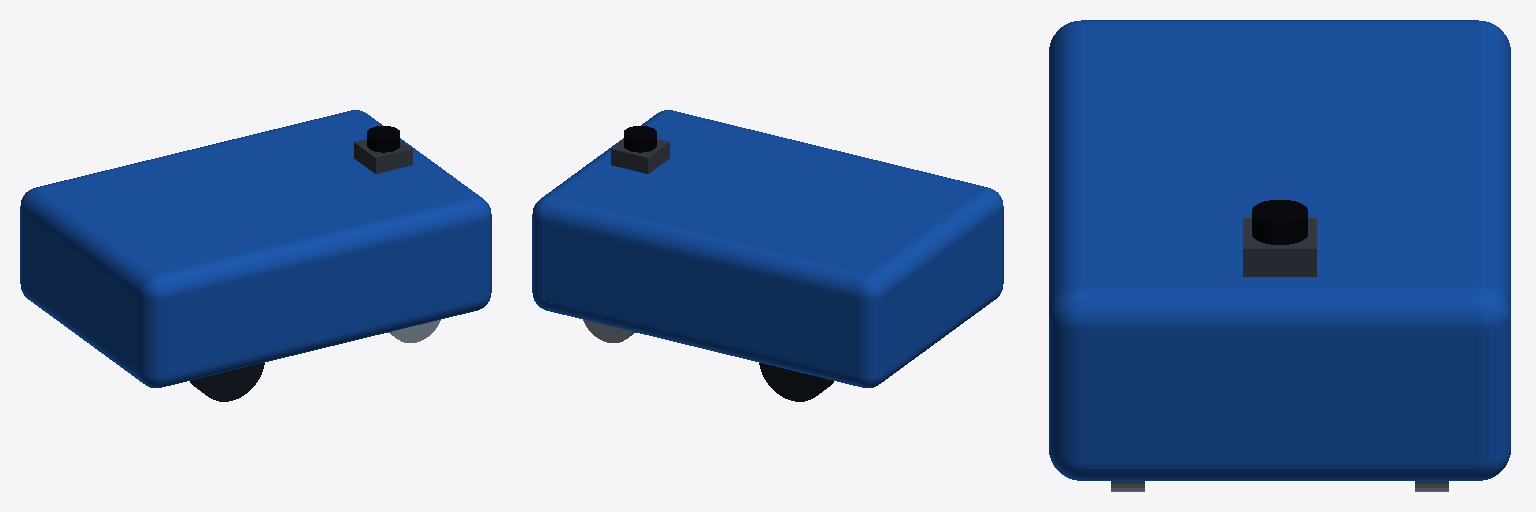
URDF robot description (fwr_chassis_preview):
<?xml version="1.0"?>
<!-- Overall envelope: 0.52 m long, 0.35 m wide, 0.20 m high. +X is front.
     Wheel sizes and mounting coordinates are illustrative, not measured CAD. -->
<robot name="fwr_chassis_preview">
  <material name="body_blue"><color rgba="0.12 0.35 0.68 0.72"/></material>
  <material name="wheel_dark"><color rgba="0.10 0.12 0.16 1"/></material>
  <material name="caster_gray"><color rgba="0.52 0.56 0.62 1"/></material>
  <material name="lidar_dark"><color rgba="0.04 0.05 0.07 1"/></material>
  <material name="lidar_base_gray"><color rgba="0.23 0.25 0.29 1"/></material>

  <link name="base_link">
    <visual>
      <origin xyz="0 0 0.12"/>
      <geometry><mesh filename="package://fwr_bringup/description/fwr_chassis_rounded.stl"/></geometry>
      <material name="body_blue"/>
    </visual>
    <collision>
      <origin xyz="0 0 0.12"/>
      <geometry><box size="0.52 0.35 0.16"/></geometry>
    </collision>
  </link>

  <!-- RPLIDAR C1 simplified visual: 55.6 x 55.6 x 41.3 mm per SLAMTEC drawing.
       Base position is illustrative; +X is front and the scan frame is chassis-fixed. -->
  <link name="laser_front">
    <visual>
      <origin xyz="0 0 -0.01825"/>
      <geometry><box size="0.0556 0.0556 0.0231"/></geometry>
      <material name="lidar_base_gray"/>
    </visual>
    <visual>
      <origin xyz="0 0 0.0024"/>
      <geometry><cylinder radius="0.0215" length="0.0182"/></geometry>
      <material name="lidar_dark"/>
    </visual>
    <collision>
      <origin xyz="0 0 -0.00915"/>
      <geometry><box size="0.0556 0.0556 0.0413"/></geometry>
    </collision>
    <inertial>
      <origin xyz="0 0 -0.00915"/>
      <mass value="0.11"/>
      <inertia ixx="0.0000439" ixy="0" ixz="0" iyy="0.0000439" iyz="0" izz="0.0000567"/>
    </inertial>
  </link>
  <joint name="laser_front_joint" type="fixed">
    <parent link="base_link"/><child link="laser_front"/>
    <origin xyz="0.19 0 0.2298" rpy="0 0 0"/>
  </joint>

  <link name="left_drive_wheel">
    <visual><origin rpy="1.57079632679 0 0"/><geometry><cylinder radius="0.05" length="0.035"/></geometry><material name="wheel_dark"/></visual>
  </link>
  <joint name="left_drive_wheel_preview_joint" type="continuous">
    <parent link="base_link"/><child link="left_drive_wheel"/>
    <origin xyz="-0.13 0.145 0.05"/>
    <axis xyz="0 1 0"/>
  </joint>

  <link name="right_drive_wheel">
    <visual><origin rpy="1.57079632679 0 0"/><geometry><cylinder radius="0.05" length="0.035"/></geometry><material name="wheel_dark"/></visual>
  </link>
  <joint name="right_drive_wheel_preview_joint" type="continuous">
    <parent link="base_link"/><child link="right_drive_wheel"/>
    <origin xyz="-0.13 -0.145 0.05"/>
    <axis xyz="0 1 0"/>
  </joint>

  <link name="front_left_caster_swivel">
    <visual><origin xyz="0 0 -0.015"/><geometry><cylinder radius="0.012" length="0.05"/></geometry><material name="caster_gray"/></visual>
  </link>
  <joint name="front_left_caster_steer_joint" type="continuous">
    <parent link="base_link"/><child link="front_left_caster_swivel"/>
    <origin xyz="0.19 0.115 0.09"/>
    <axis xyz="0 0 1"/>
  </joint>
  <link name="front_left_caster_wheel">
    <visual><origin rpy="1.57079632679 0 0"/><geometry><cylinder radius="0.04" length="0.025"/></geometry><material name="caster_gray"/></visual>
  </link>
  <joint name="front_left_caster_roll_joint" type="continuous">
    <parent link="front_left_caster_swivel"/><child link="front_left_caster_wheel"/>
    <origin xyz="-0.025 0 -0.05"/>
    <axis xyz="0 1 0"/>
  </joint>

  <link name="front_right_caster_swivel">
    <visual><origin xyz="0 0 -0.015"/><geometry><cylinder radius="0.012" length="0.05"/></geometry><material name="caster_gray"/></visual>
  </link>
  <joint name="front_right_caster_steer_joint" type="continuous">
    <parent link="base_link"/><child link="front_right_caster_swivel"/>
    <origin xyz="0.19 -0.115 0.09"/>
    <axis xyz="0 0 1"/>
  </joint>
  <link name="front_right_caster_wheel">
    <visual><origin rpy="1.57079632679 0 0"/><geometry><cylinder radius="0.04" length="0.025"/></geometry><material name="caster_gray"/></visual>
  </link>
  <joint name="front_right_caster_roll_joint" type="continuous">
    <parent link="front_right_caster_swivel"/><child link="front_right_caster_wheel"/>
    <origin xyz="-0.025 0 -0.05"/>
    <axis xyz="0 1 0"/>
  </joint>
</robot>

--- What the picture shows (computed from the rendered views, not written in the file) ---
3 views of the same robot in one strip: view 1: azimuth 30°, elevation 25°; view 2: azimuth 150°, elevation 25°; view 3: azimuth 270°, elevation 25° (orthographic).
Robot: fwr_chassis_preview — 8 links, 7 joints (6 continuous, 1 fixed); root link base_link; default pose: every joint at zero.
Links seen in each view (by area): view 1: base_link, laser_front, right_drive_wheel, front_right_caster_wheel; view 2: base_link, laser_front, left_drive_wheel, front_left_caster_wheel; view 3: base_link, laser_front.
Link boxes in pixels (x1,y1,x2,y2): base_link: [20, 110, 491, 387]; laser_front: [354, 126, 412, 173]; right_drive_wheel: [190, 363, 264, 401]; front_right_caster_wheel: [388, 320, 440, 342]; base_link: [532, 110, 1003, 387]; laser_front: [611, 126, 669, 173]; left_drive_wheel: [759, 363, 833, 401]; front_left_caster_wheel: [583, 320, 635, 342]; base_link: [1049, 20, 1510, 480]; laser_front: [1243, 200, 1316, 276].
Size in the robot's own frame: 0.52 by 0.35 by 0.2413 metres.
1 mesh visuals loaded from 1 distinct referenced files (1 binary STL).
